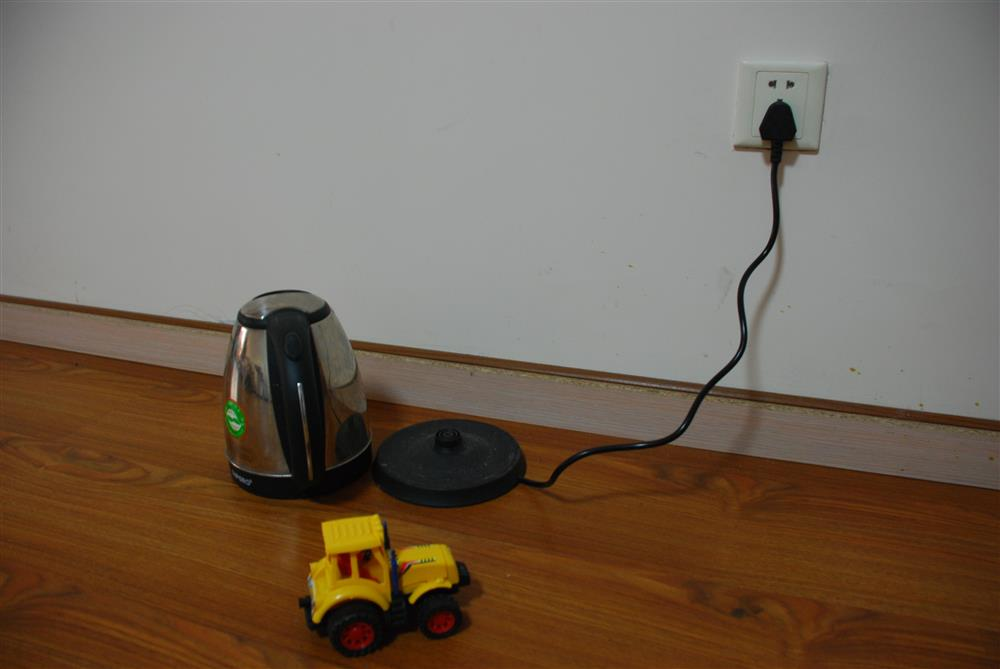toy_jeep: (293, 511, 468, 652)
